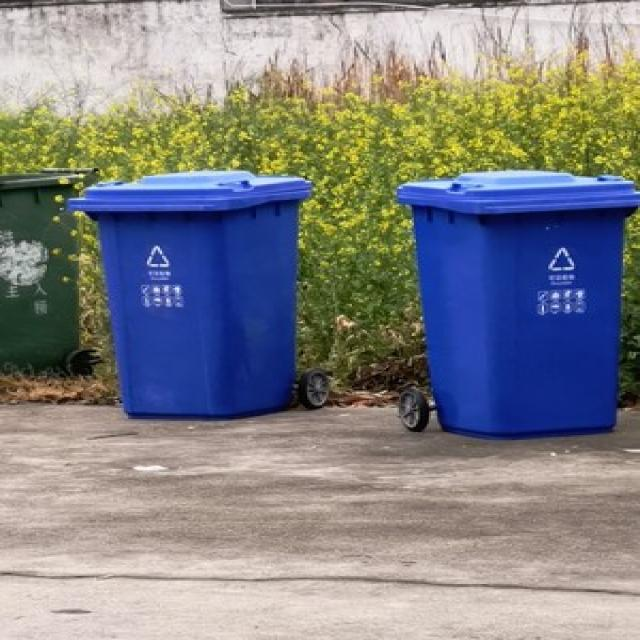ash bin: (395, 166, 638, 437), (68, 166, 314, 420), (0, 165, 102, 376)
